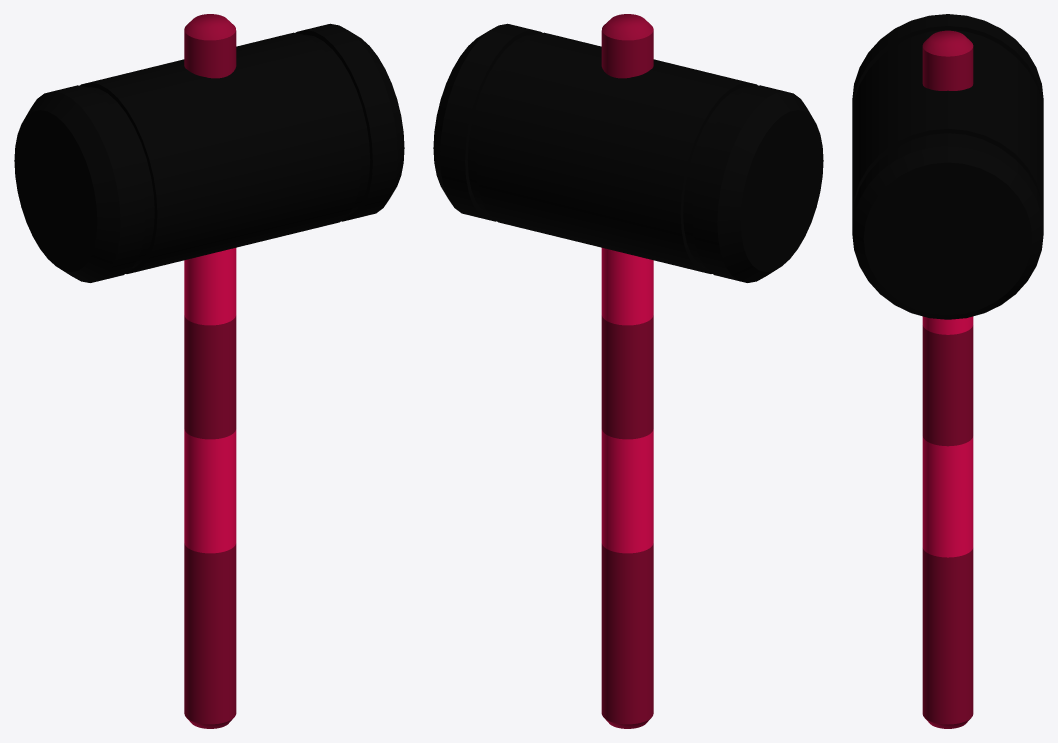
The model's file is hammer.fbx.
The picture shows the model from 3 angles, left to right: view 1: azimuth 30°, elevation 25°; view 2: azimuth 150°, elevation 25°; view 3: azimuth 270°, elevation 25°; orthographic projection. The views are drawn at different scales.
Visible parts, largest first — view 1: Cylinder, Cylinder.001; view 2: Cylinder, Cylinder.001; view 3: Cylinder, Cylinder.001.
Part boxes in pixels (<box>): Cylinder: <box>14,23,404,282</box>; Cylinder.001: <box>184,14,236,728</box>; Cylinder: <box>433,23,823,282</box>; Cylinder.001: <box>601,14,653,728</box>; Cylinder: <box>852,14,1043,319</box>; Cylinder.001: <box>922,30,973,728</box>.
Bounding box in the file's own units: 360 × 786 × 200.
